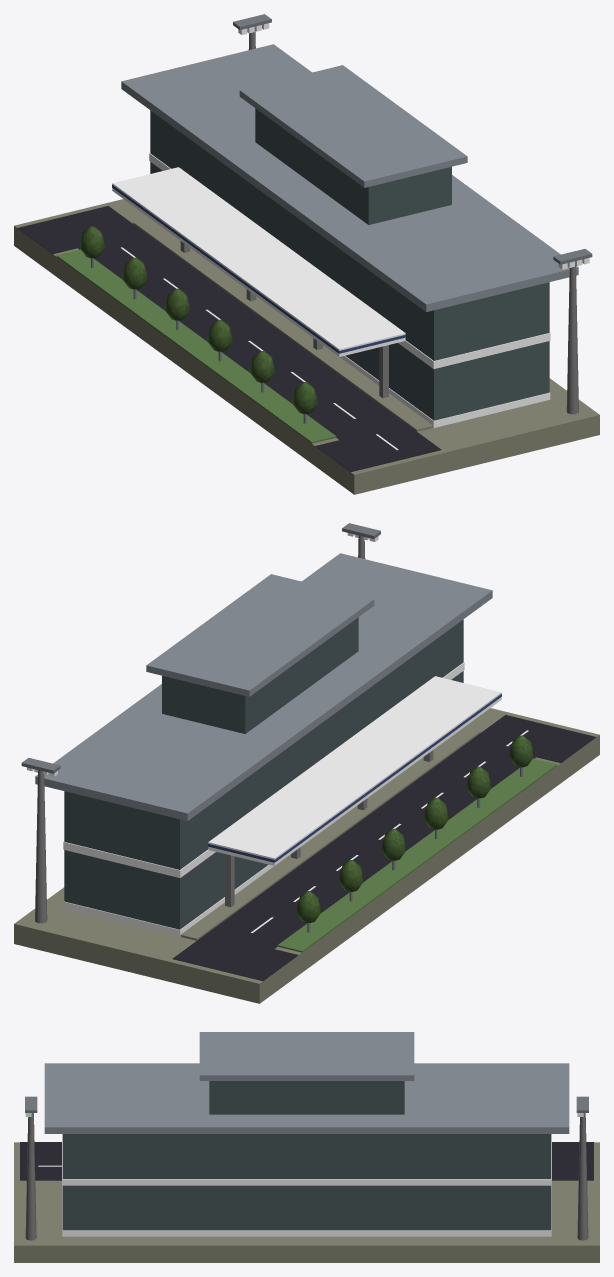
File: port_building.fbx
The picture shows the model from 3 angles, top to bottom: view 1: azimuth 30°, elevation 25°; view 2: azimuth 150°, elevation 25°; view 3: azimuth 270°, elevation 25°; orthographic projection. The views are drawn at different scales.
Visible parts, largest first — view 1: a1068_0_port_building; view 2: a1068_0_port_building; view 3: a1068_0_port_building.
Boxes of the visible parts, left/top/right/bottom form: a1068_0_port_building: left=14, top=14, right=599, bottom=494; a1068_0_port_building: left=14, top=523, right=599, bottom=1003; a1068_0_port_building: left=14, top=1032, right=599, bottom=1262.
Bounding box in the file's own units: 20 × 16 × 48.
